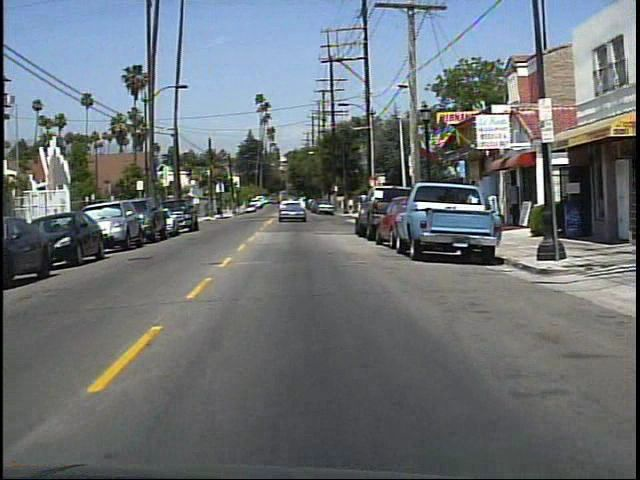person: (465, 184, 488, 233)
